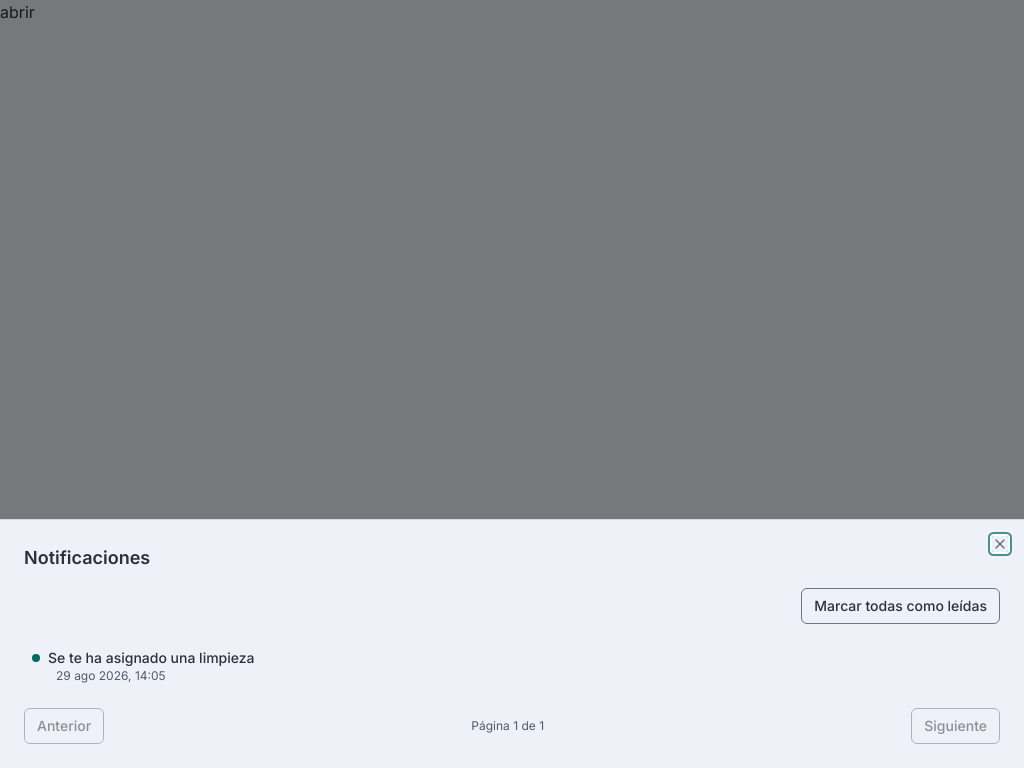
Test case: NotificationInboxSheet (R4.5, R5.2, design D9) › shows a translated error when the acknowledgement fails, never the server's text (R5.3)
The image size is (1024, 768).
Click the button "Se te ha asignado una limpieza 29 ago 2026, 14:05" at (151, 658), box x1=24 y1=640 x2=1000 y2=692
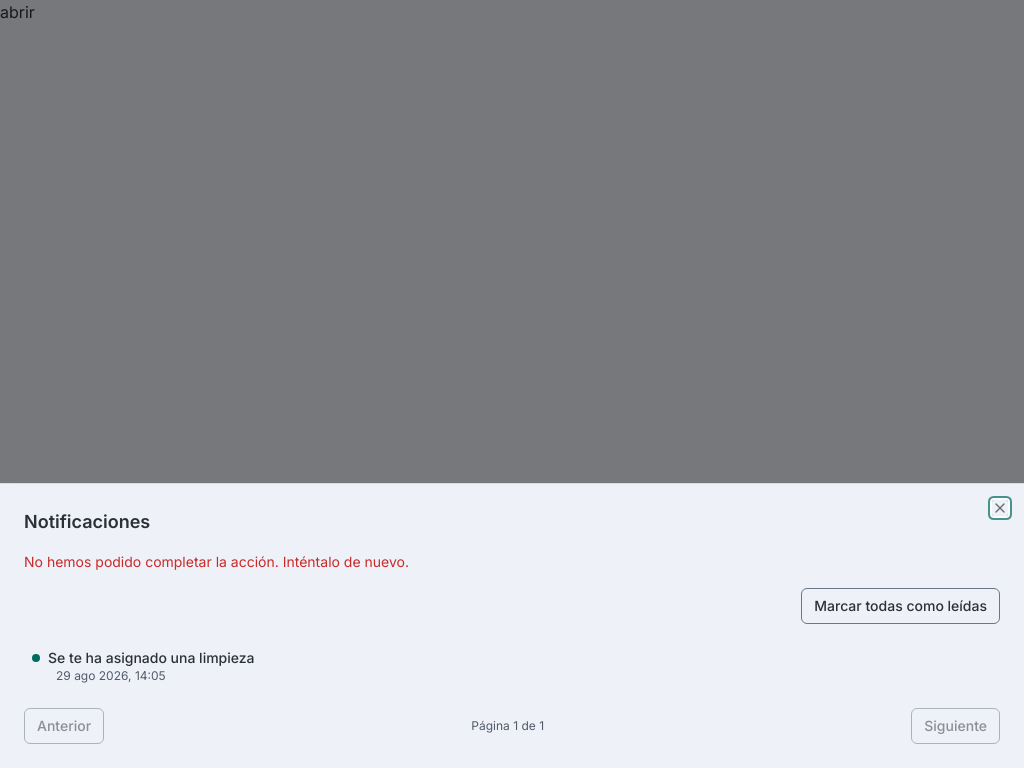
Expected: the message reads "No hemos podido completar la acción. Inténtalo de nuevo.", x1=24 y1=553 x2=409 y2=570
